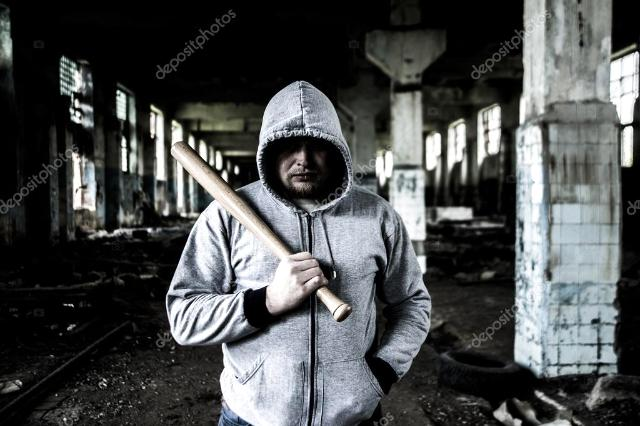baseball bat: (171, 139, 353, 324)
